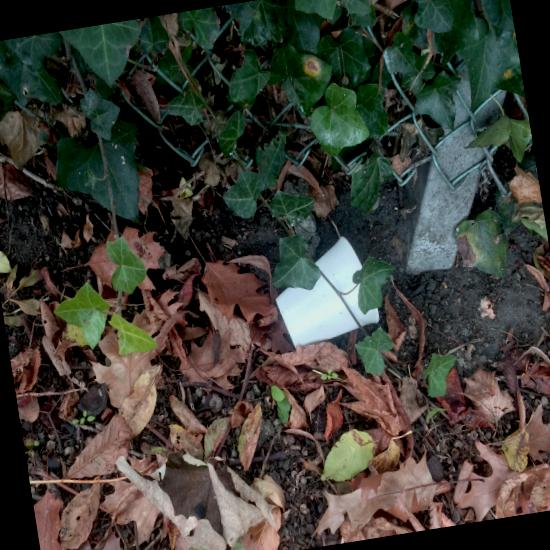Foam cup: (275, 275, 379, 349), (315, 236, 362, 292)
